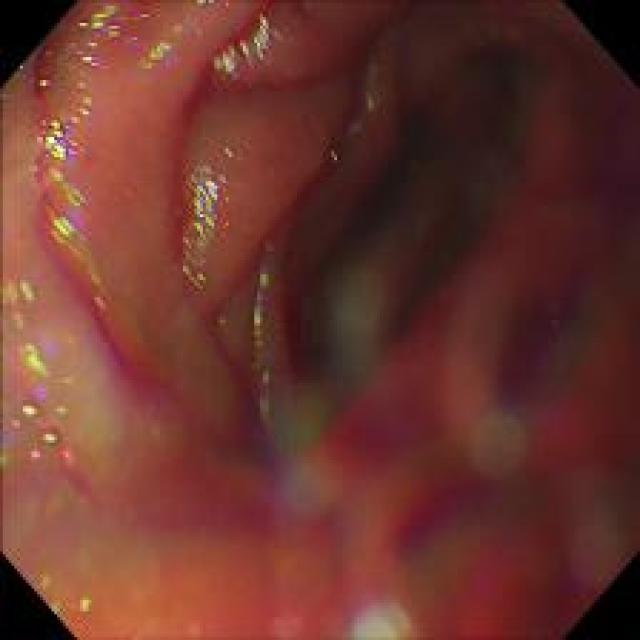blur: (4, 2, 636, 635), (139, 229, 400, 495)
color misalignment: (312, 289, 611, 626), (2, 276, 76, 470), (40, 98, 106, 304), (250, 244, 299, 451), (79, 4, 178, 88), (184, 155, 230, 284), (215, 9, 275, 81), (36, 571, 94, 619), (165, 1, 248, 30), (336, 601, 400, 638), (358, 76, 388, 121), (326, 138, 352, 178), (304, 1, 360, 16), (36, 495, 66, 521)
contrast: (325, 78, 566, 325)
specularity: (1, 272, 69, 459), (36, 98, 108, 274), (72, 8, 181, 88), (186, 152, 230, 279), (224, 9, 285, 80)
